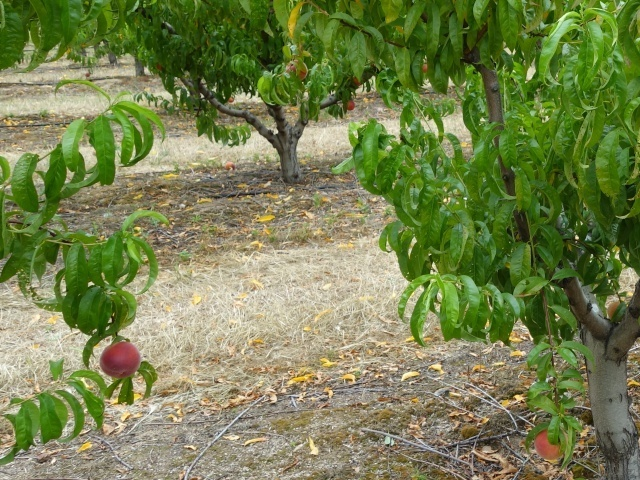peach: (95, 339, 142, 381), (530, 424, 572, 464), (282, 58, 309, 82), (605, 296, 629, 323)
